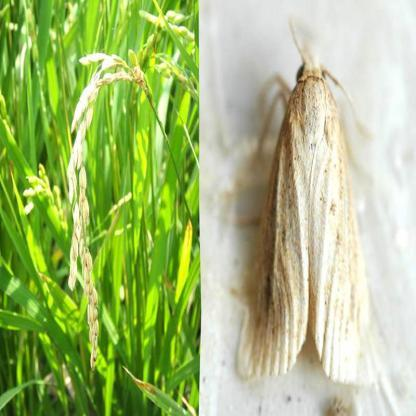stem-borer: (239, 49, 375, 382)
